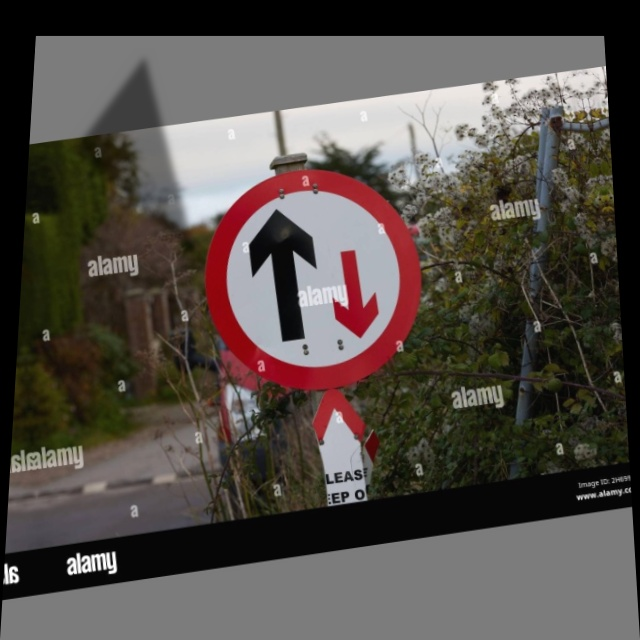Priority_for_Oncoming_Traffic: (187, 154, 438, 405)
